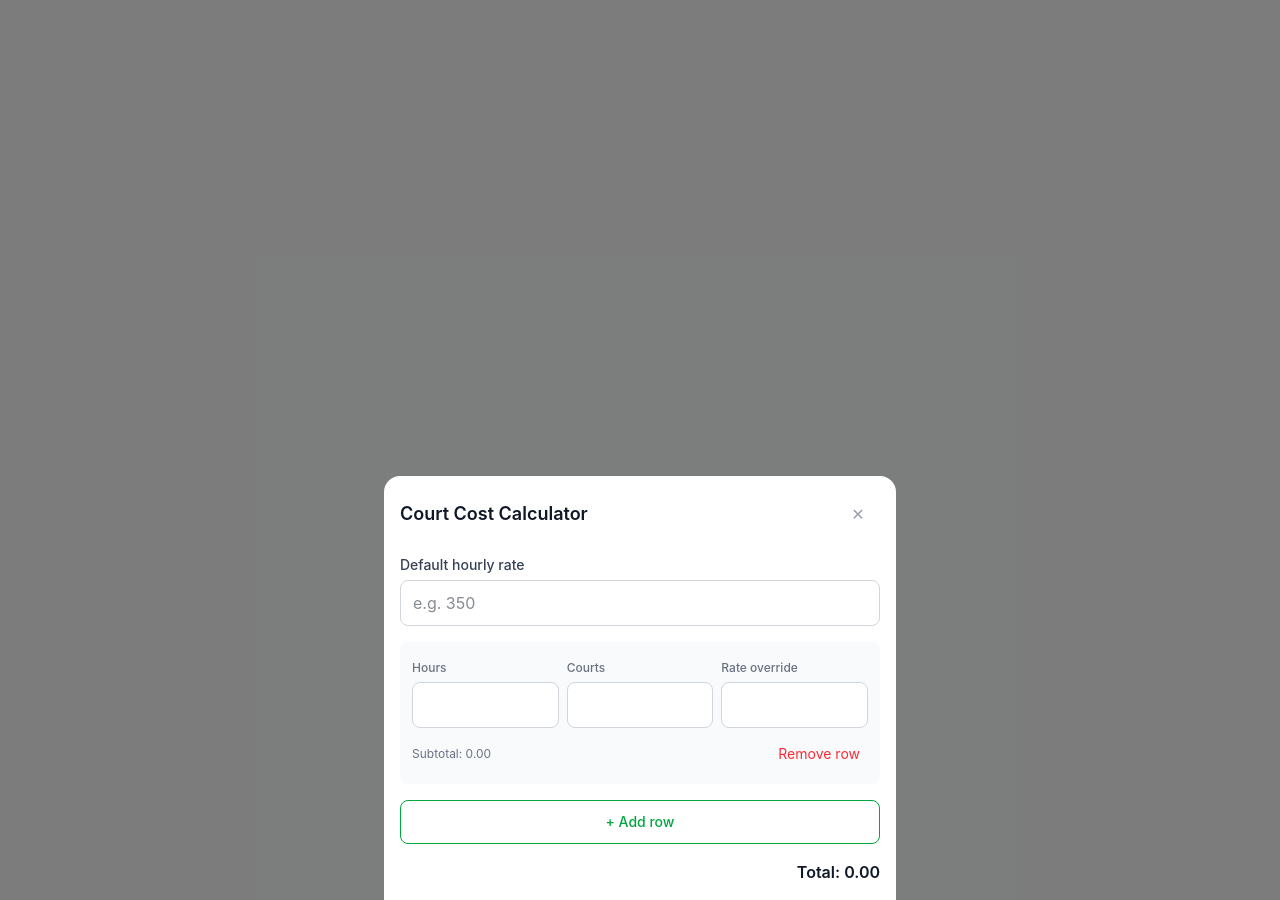
Test case: CourtCostCalculator › computes row subtotals with the default rate and shows the total
The width and height of the screenshot is (1280, 900).
Type "350" into the number field labelled "Default hourly rate". click: (640, 603)
box: x1=400 y1=580 x2=880 y2=626
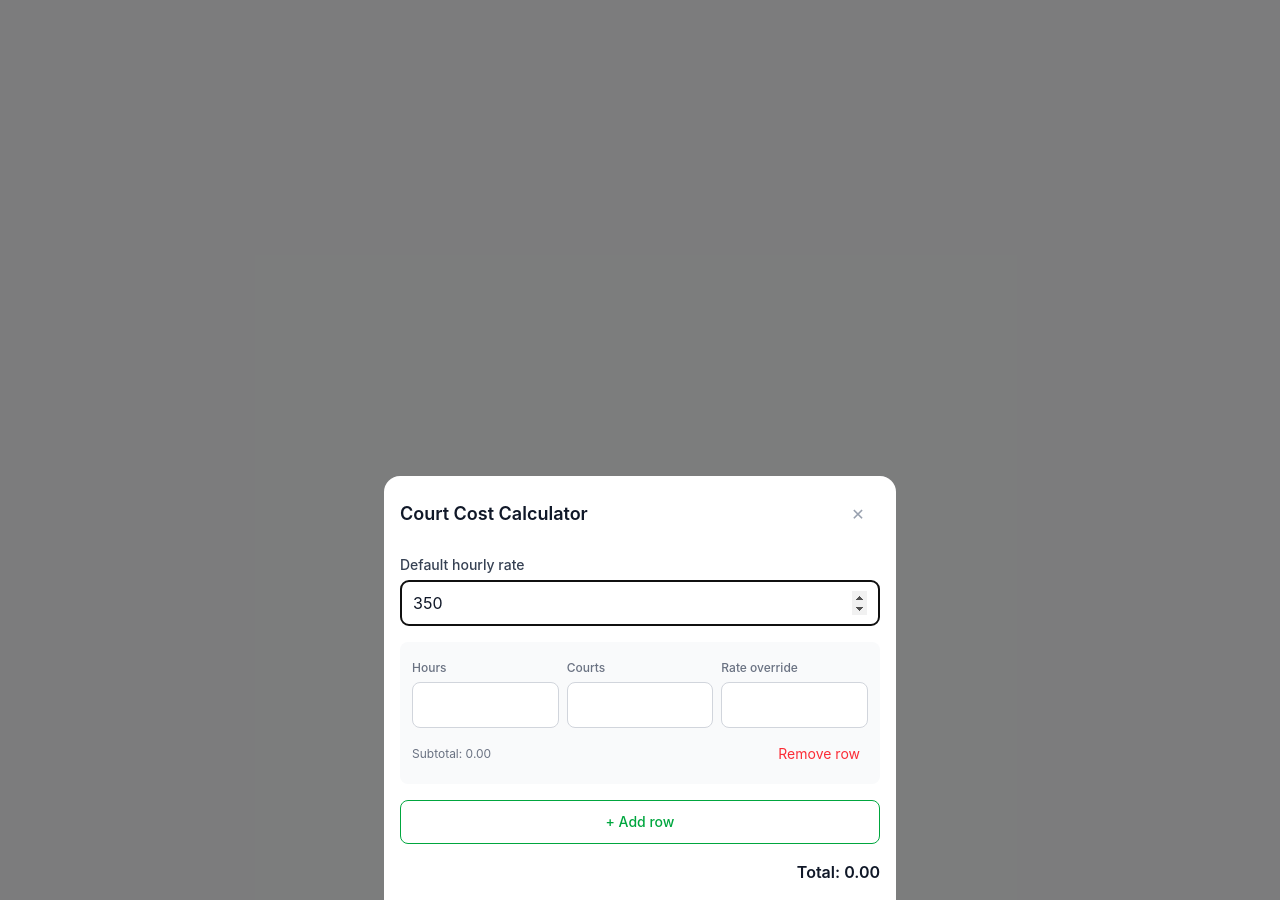
Type "2" into the number field labelled "Hours". click: (485, 705)
box: x1=412 y1=682 x2=559 y2=728
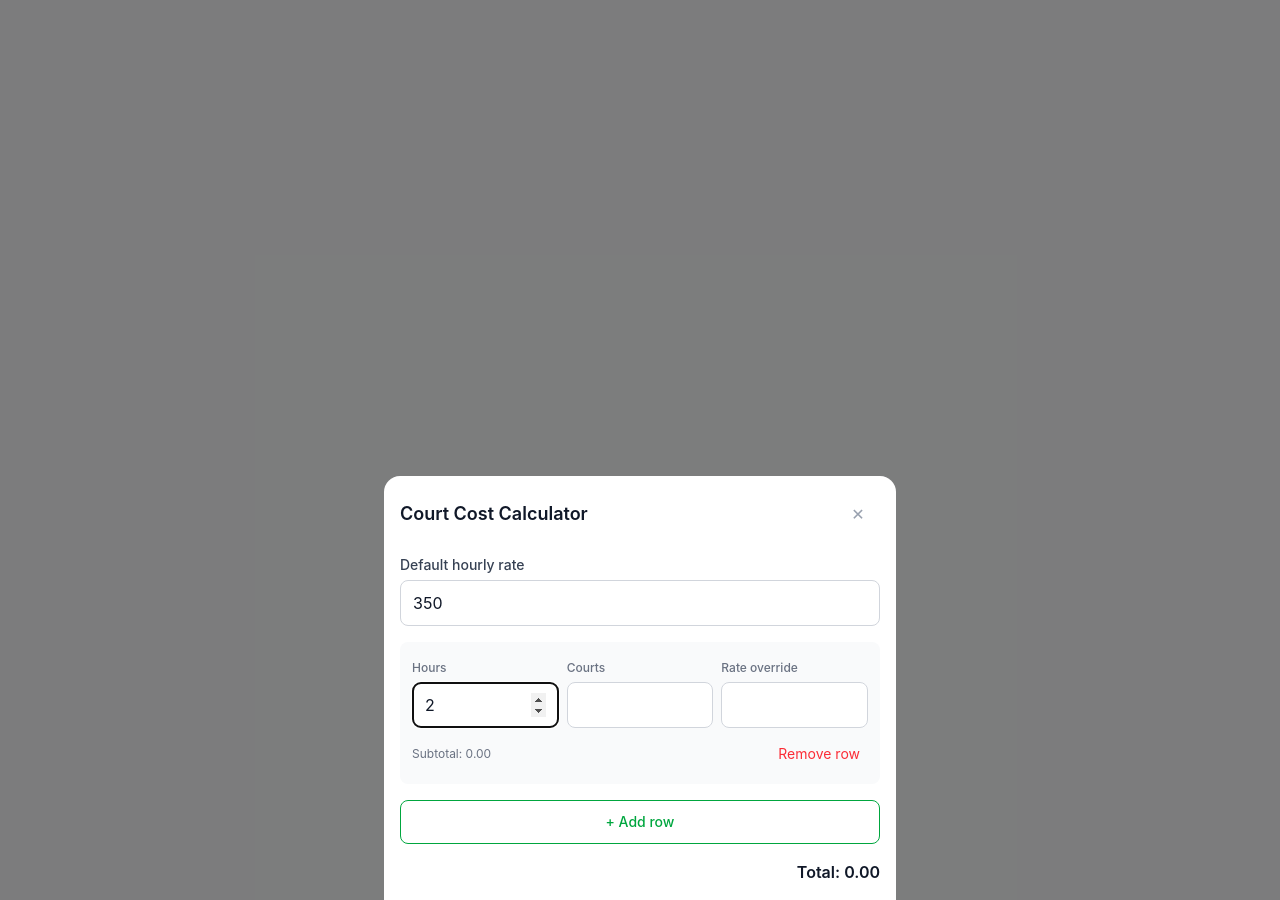
Type "2" into the number field labelled "Courts". click: (640, 705)
box: x1=567 y1=682 x2=713 y2=728
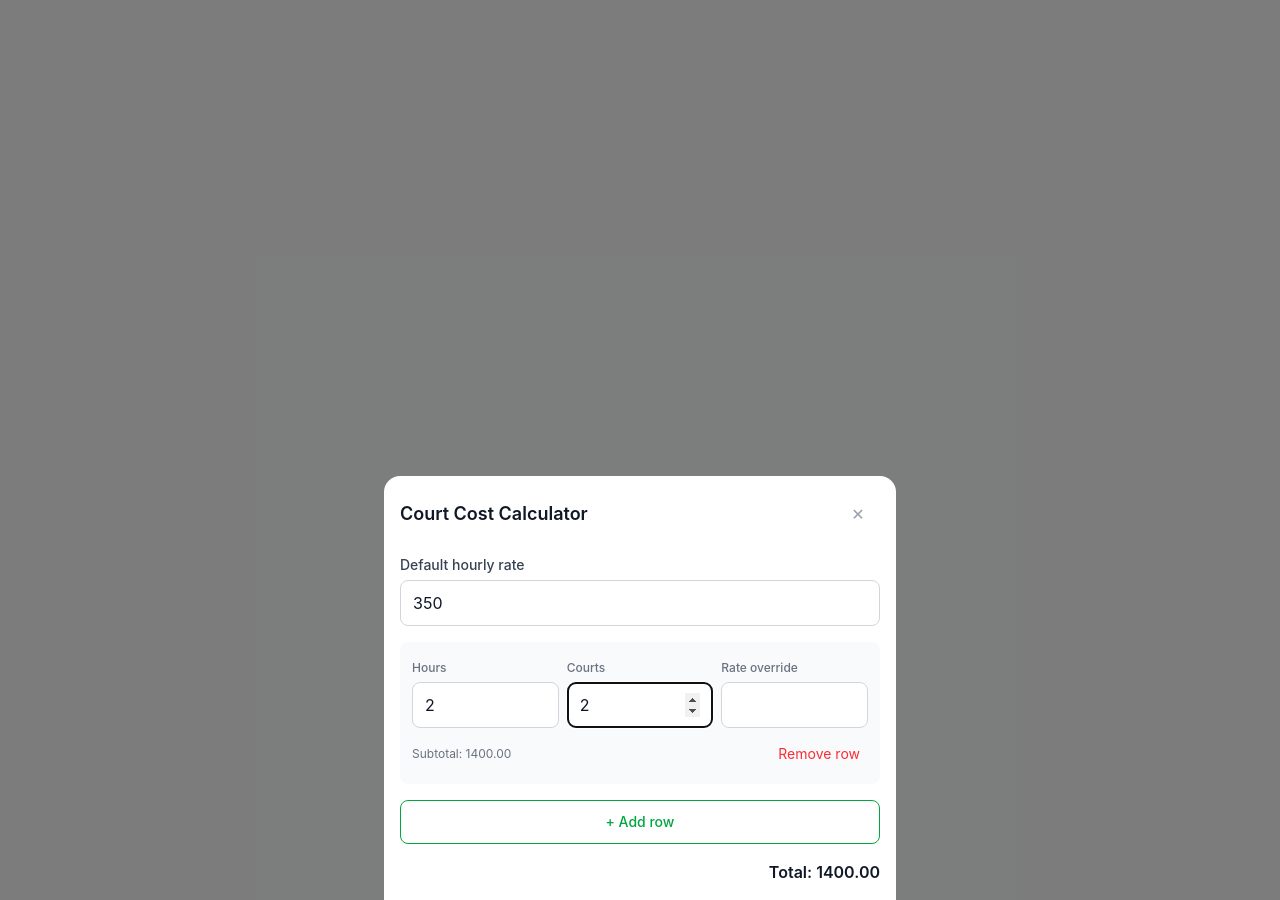
Now the text "Total: 1400.00" is shown, box x1=769 y1=862 x2=880 y2=882
